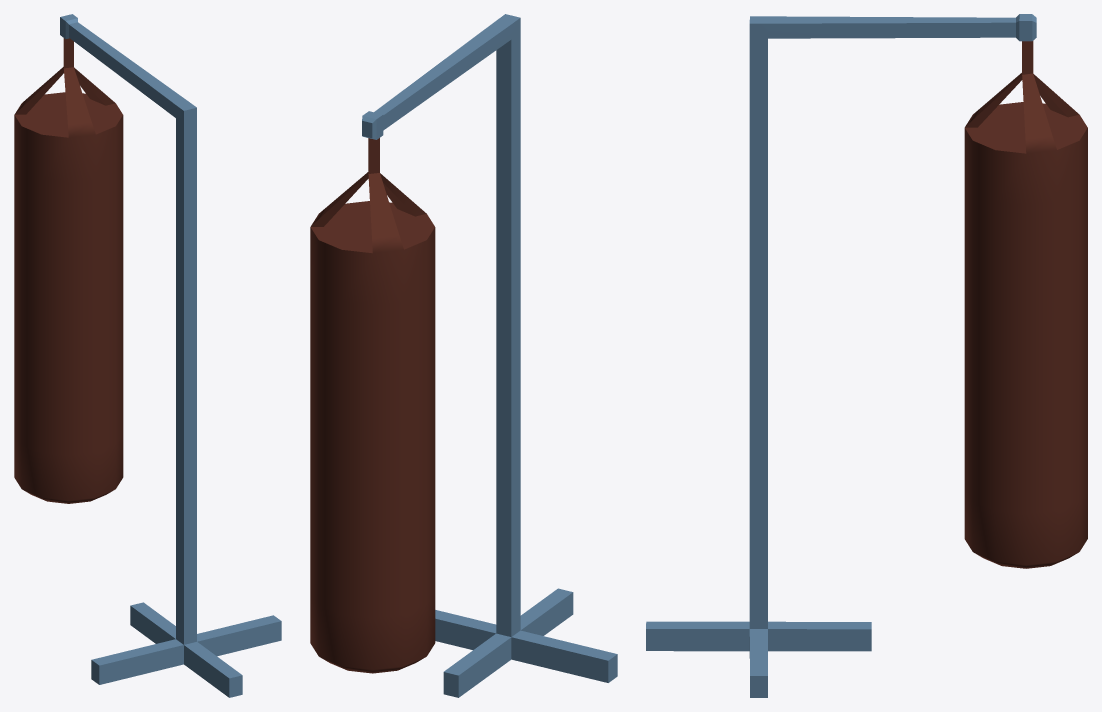
The model's file is punching_bag.fbx.
3 renders of one model, left to right at view 1: azimuth 30°, elevation 25°; view 2: azimuth 150°, elevation 25°; view 3: azimuth 270°, elevation 25°, orthographic. The views are drawn at different scales.
Visible parts, largest first — view 1: bag, bag_stand; view 2: bag, bag_stand; view 3: bag, bag_stand.
Part boxes in pixels (x1,y1,x2,y2): bag: [14, 38, 123, 503]; bag_stand: [60, 14, 281, 697]; bag: [310, 138, 435, 673]; bag_stand: [362, 14, 617, 697]; bag: [964, 41, 1087, 568]; bag_stand: [646, 14, 1036, 697].
Size of the model in its own units: 1.05 by 3.06 by 1.95.
